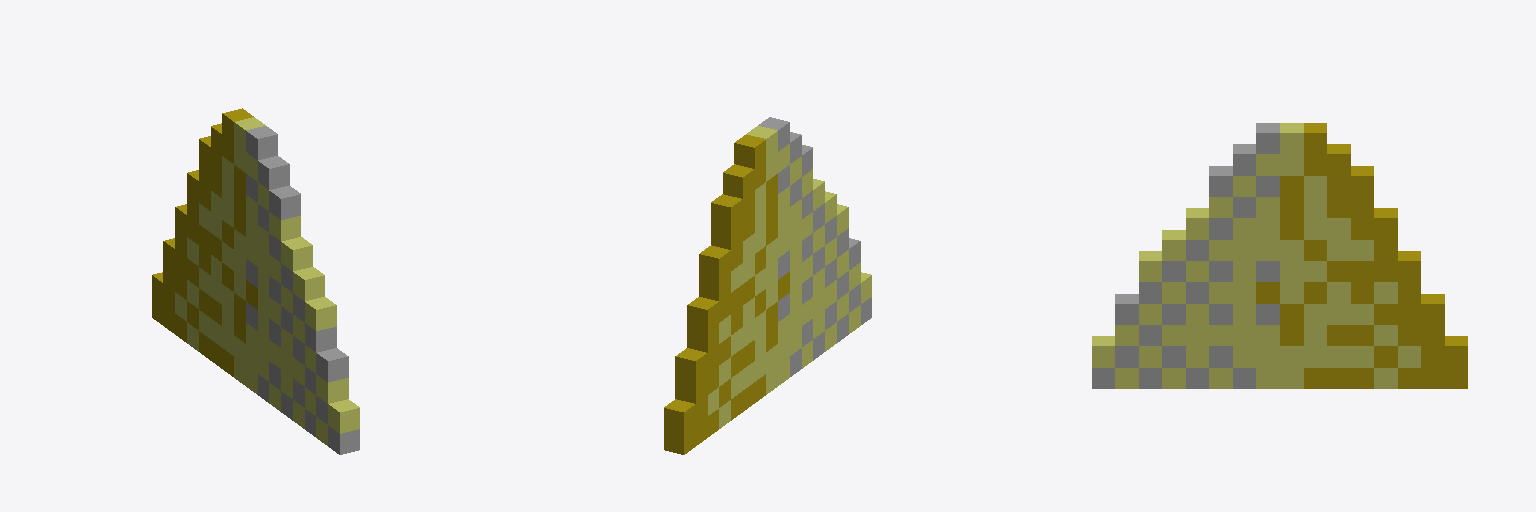
3 renders of one model, left to right at view 1: azimuth 30°, elevation 25°; view 2: azimuth 150°, elevation 25°; view 3: azimuth 270°, elevation 25°, orthographic.
Visible parts, largest first — view 1: object 1; view 2: object 1; view 3: object 1.
Boxes of the visible parts, <box> form: object 1: <box>152,108,359,454</box>; object 1: <box>664,117,871,454</box>; object 1: <box>1092,123,1467,388</box>.
Size of the model in its own units: 0.1 by 1.2 by 1.6.
Materials: 1 (1 with a texture image).